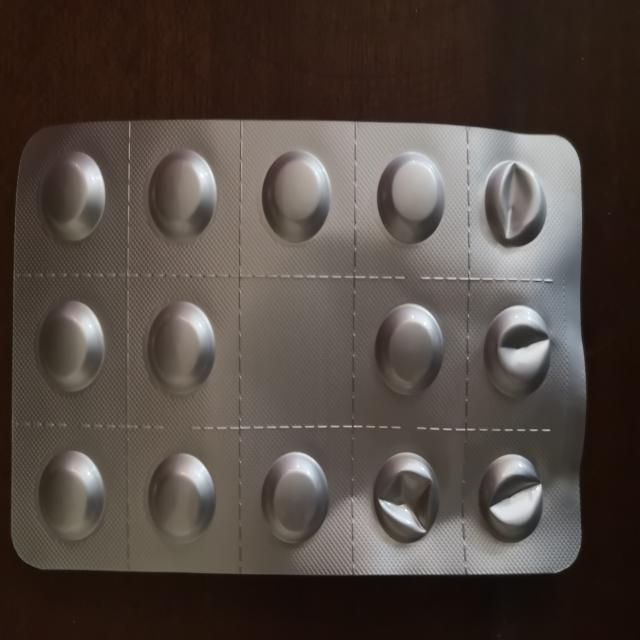Empty: (480, 300, 556, 403), (473, 448, 550, 546), (367, 451, 443, 548), (480, 156, 549, 250)
Pill: (141, 293, 222, 401), (144, 144, 224, 252), (371, 294, 446, 406), (144, 443, 224, 545), (367, 150, 452, 245), (255, 443, 333, 546), (32, 447, 112, 545), (256, 145, 334, 245), (35, 294, 105, 394), (36, 149, 110, 243)
